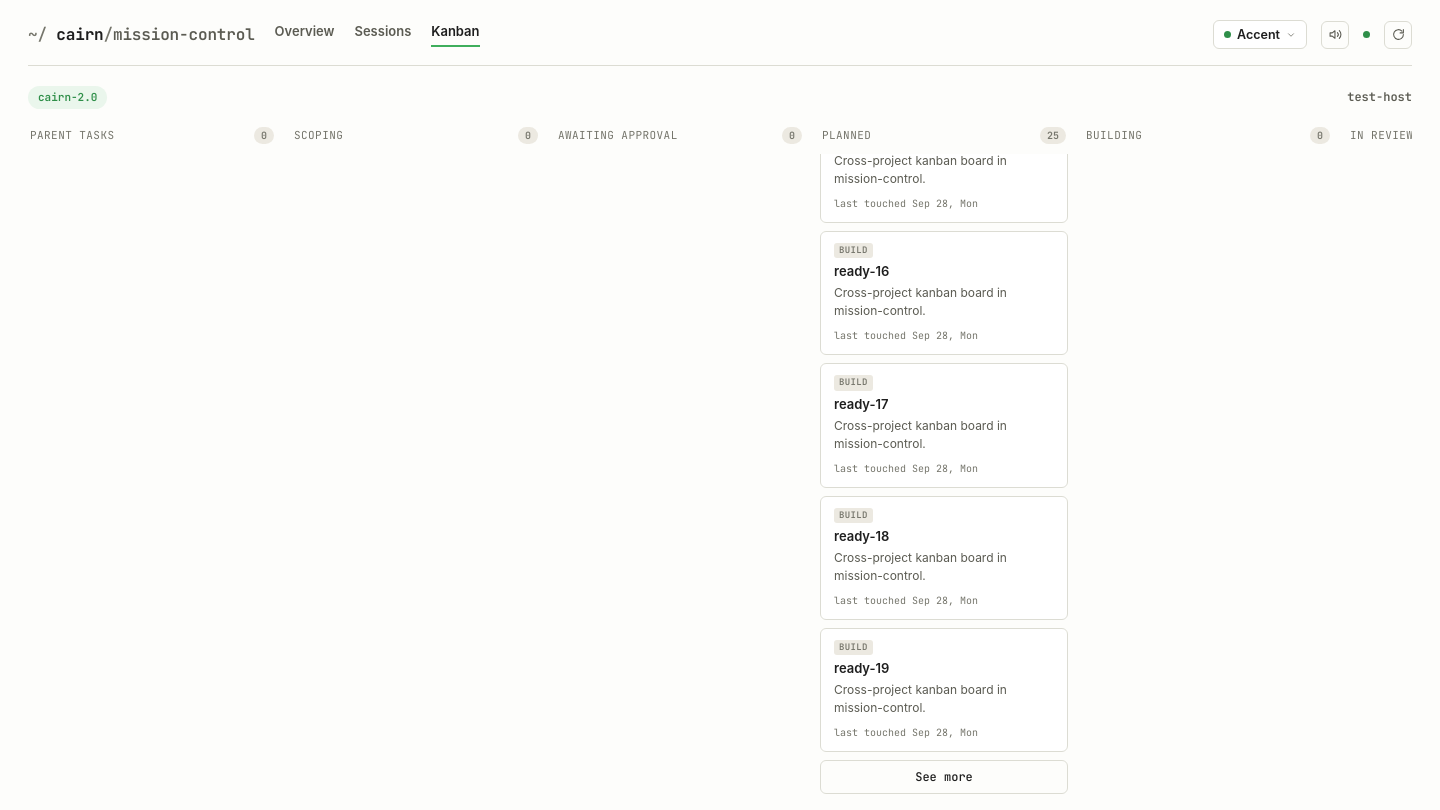
it: Kanban › pages a column's cards behind a manual See more control
(page scrolled)
Click the button with test id "kanban-see-more-planned" at (944, 777), box [820, 760, 1068, 794]
(page scrolled)
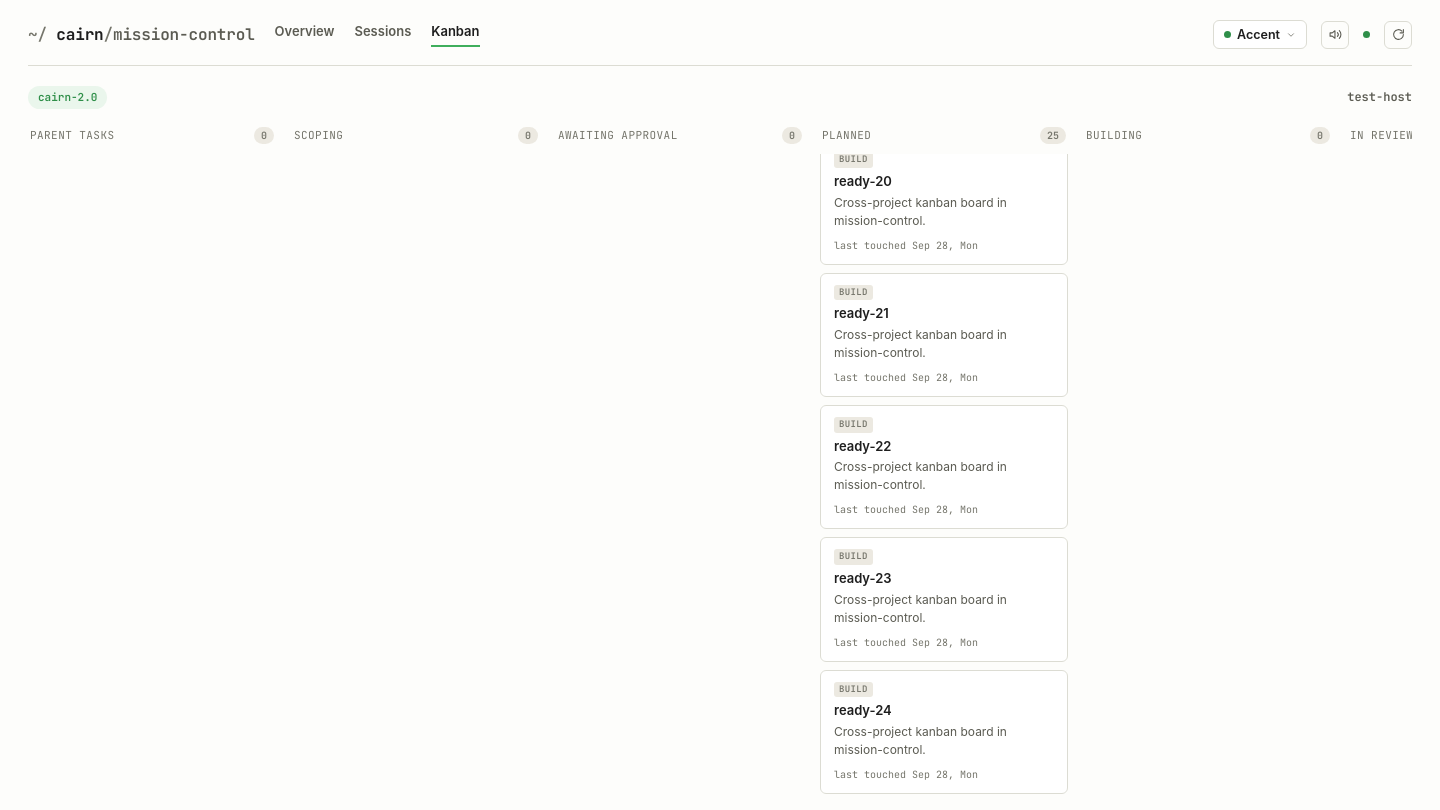
expect the button with test id "kanban-see-more-planned" is gone: met
